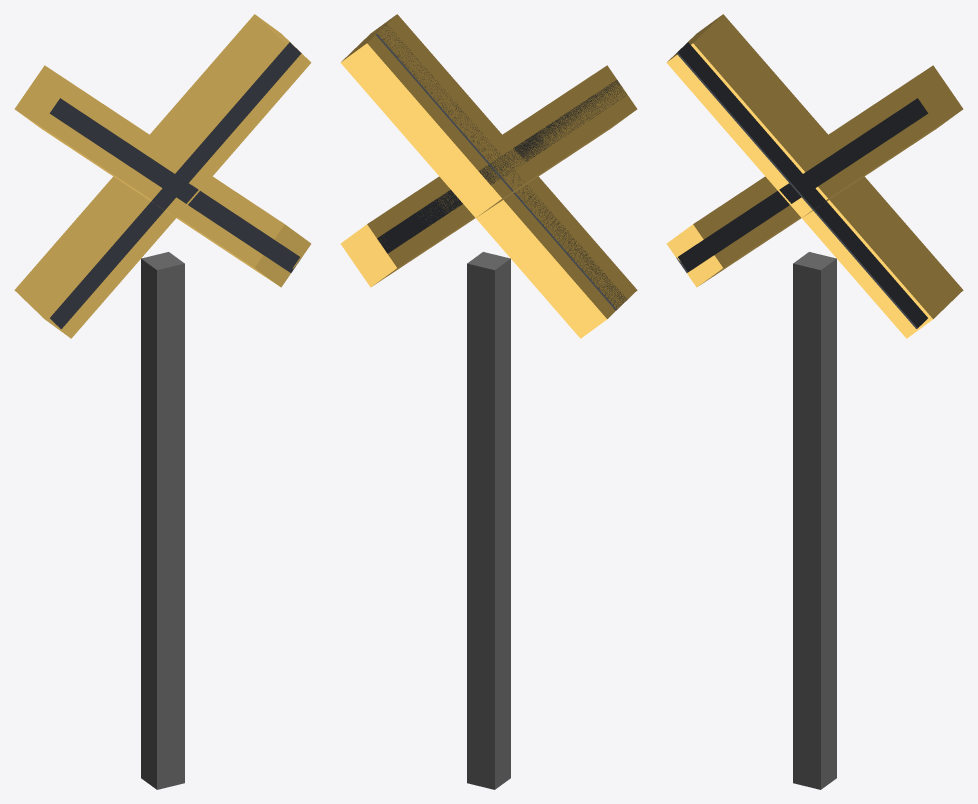
The model's file is crossing-sign.glb.
3 renders of one model, left to right at view 1: azimuth 30°, elevation 25°; view 2: azimuth 150°, elevation 25°; view 3: azimuth 330°, elevation 25°, orthographic.
Parts seen in each view (by area): view 1: crossing-sign; view 2: crossing-sign; view 3: crossing-sign.
Part boxes in pixels (x1,y1,x2,y2): crossing-sign: (14, 14, 311, 789); crossing-sign: (340, 14, 637, 789); crossing-sign: (666, 14, 963, 789).
Bounding box in the file's own units: 1.17 × 3.03 × 0.2.
